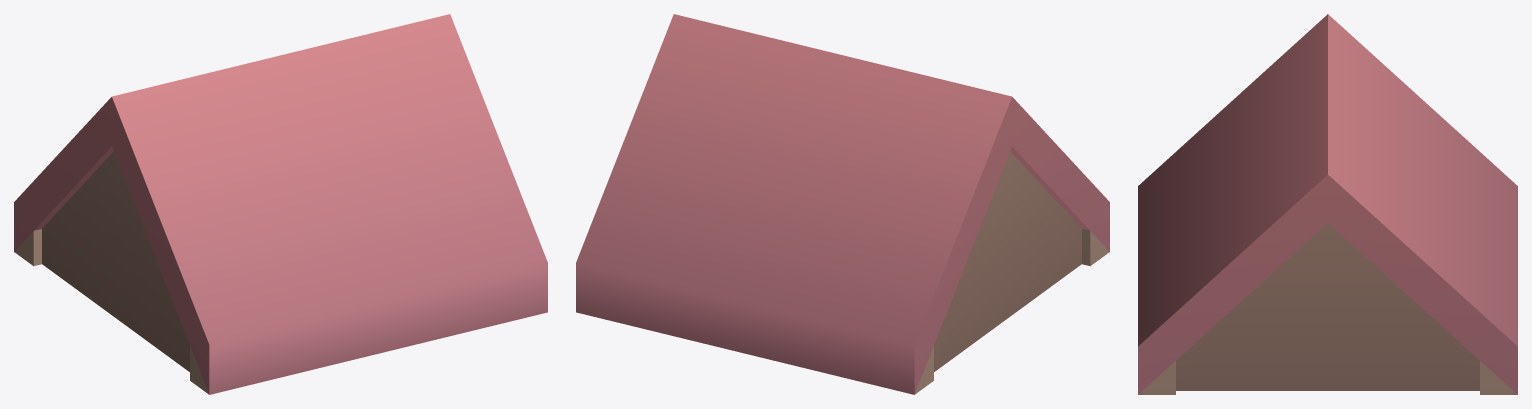
Rendered from roof-high-gable-top.glb.
3 renders of one model, left to right at view 1: azimuth 30°, elevation 25°; view 2: azimuth 150°, elevation 25°; view 3: azimuth 270°, elevation 25°, orthographic. The views are drawn at different scales.
Parts seen in each view (by area): view 1: roof-high-gable-top; view 2: roof-high-gable-top; view 3: roof-high-gable-top.
Part boxes in pixels (box(x1,y1,x2,y2)): roof-high-gable-top: box(14, 14, 547, 394); roof-high-gable-top: box(576, 14, 1109, 394); roof-high-gable-top: box(1138, 14, 1517, 394).
Size of the model in its own units: 1 by 0.6407 by 1.
